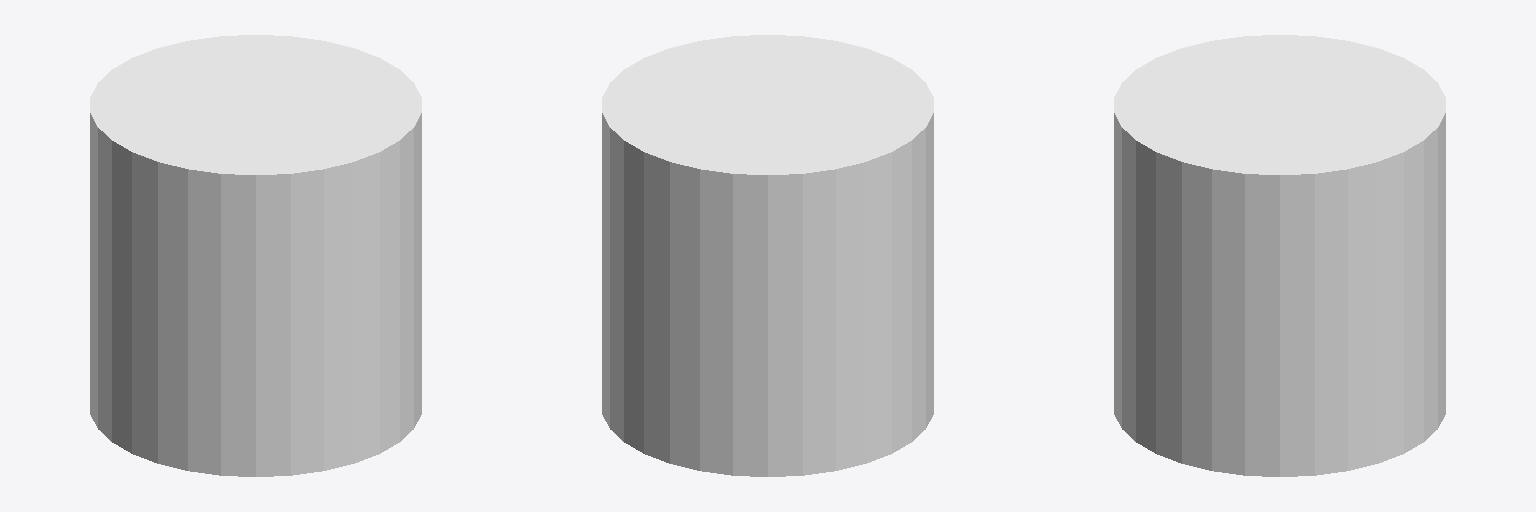
File: Log.obj
The picture shows the model from 3 angles: view 1: azimuth 30°, elevation 25°; view 2: azimuth 150°, elevation 25°; view 3: azimuth 270°, elevation 25°; orthographic projection.
Visible parts, largest first — view 1: Log; view 2: Log; view 3: Log.
Boxes of the visible parts, <box> form: Log: <box>90,35,421,476</box>; Log: <box>602,35,933,476</box>; Log: <box>1114,35,1445,476</box>.
Bounding box in the file's own units: 1 × 1 × 0.9945.